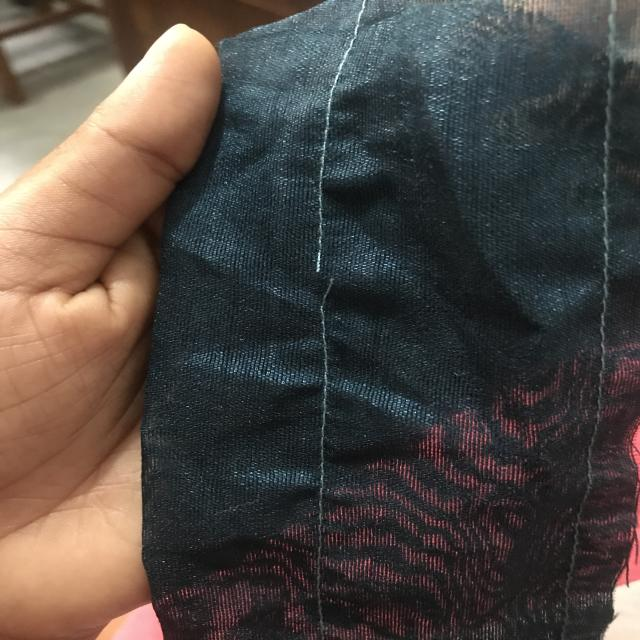broken: (303, 236, 349, 324)
good: (316, 354, 342, 478)
skip: (314, 110, 338, 208)
